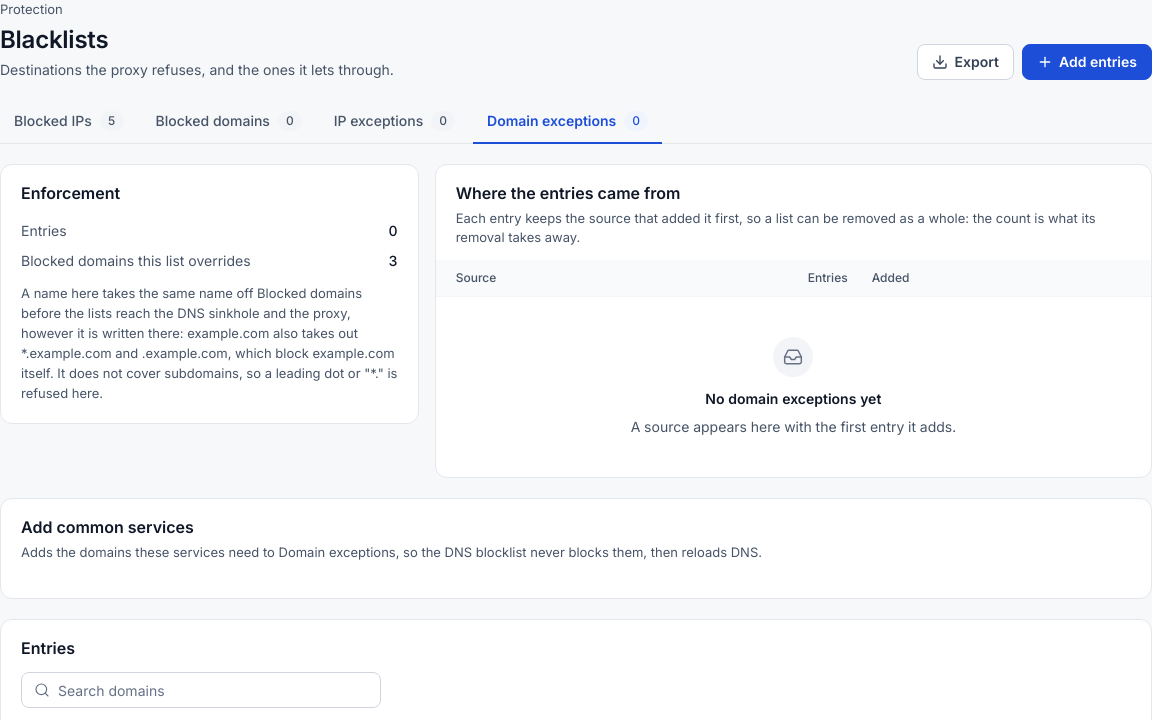
Blacklists › has no danger zone and no Popular lists on an allowed list
This screenshot has width=1152, height=720.
Check: the heading "Where the entries came from" is shown, box [456,182,680,202]
Click the button "Add entries".
click(1087, 62)  # box [1022,44,1151,80]
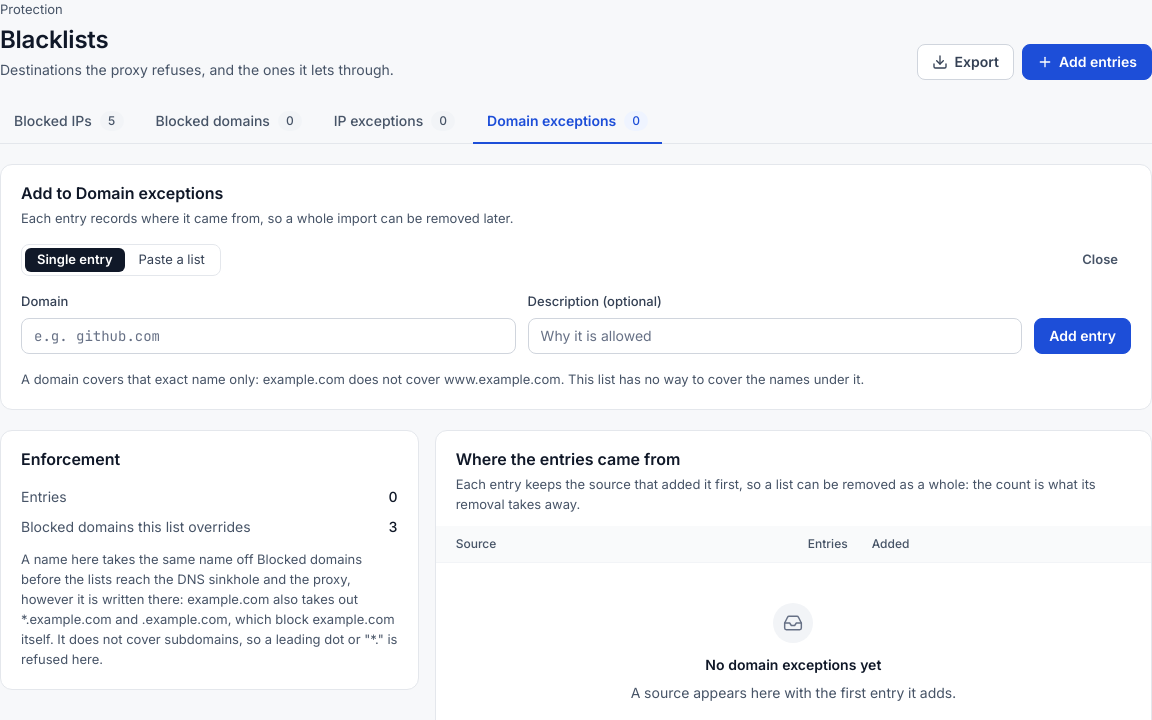
Check: the buttons read "Single entry", "Paste a list", in this order, box [25,248,125,272]; [127,248,217,272]
